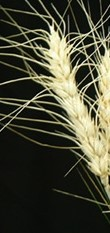Healthy Wheat: (39, 28, 106, 168)
